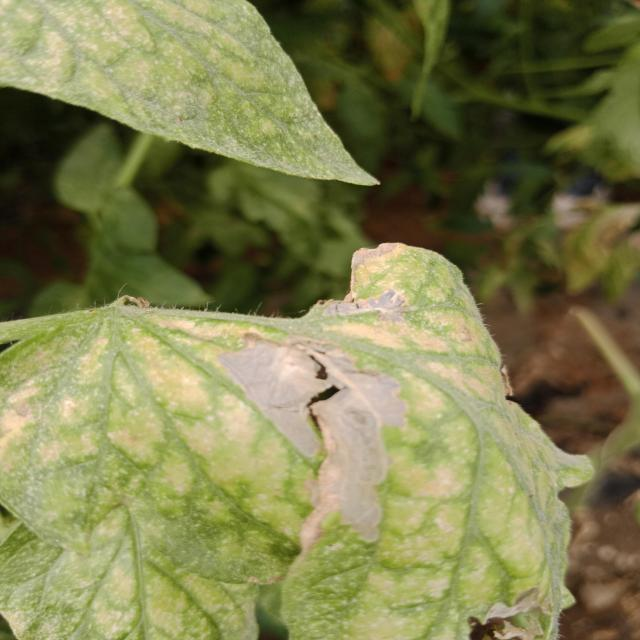Tuta absoluta: (216, 288, 452, 568), (323, 280, 410, 323)
